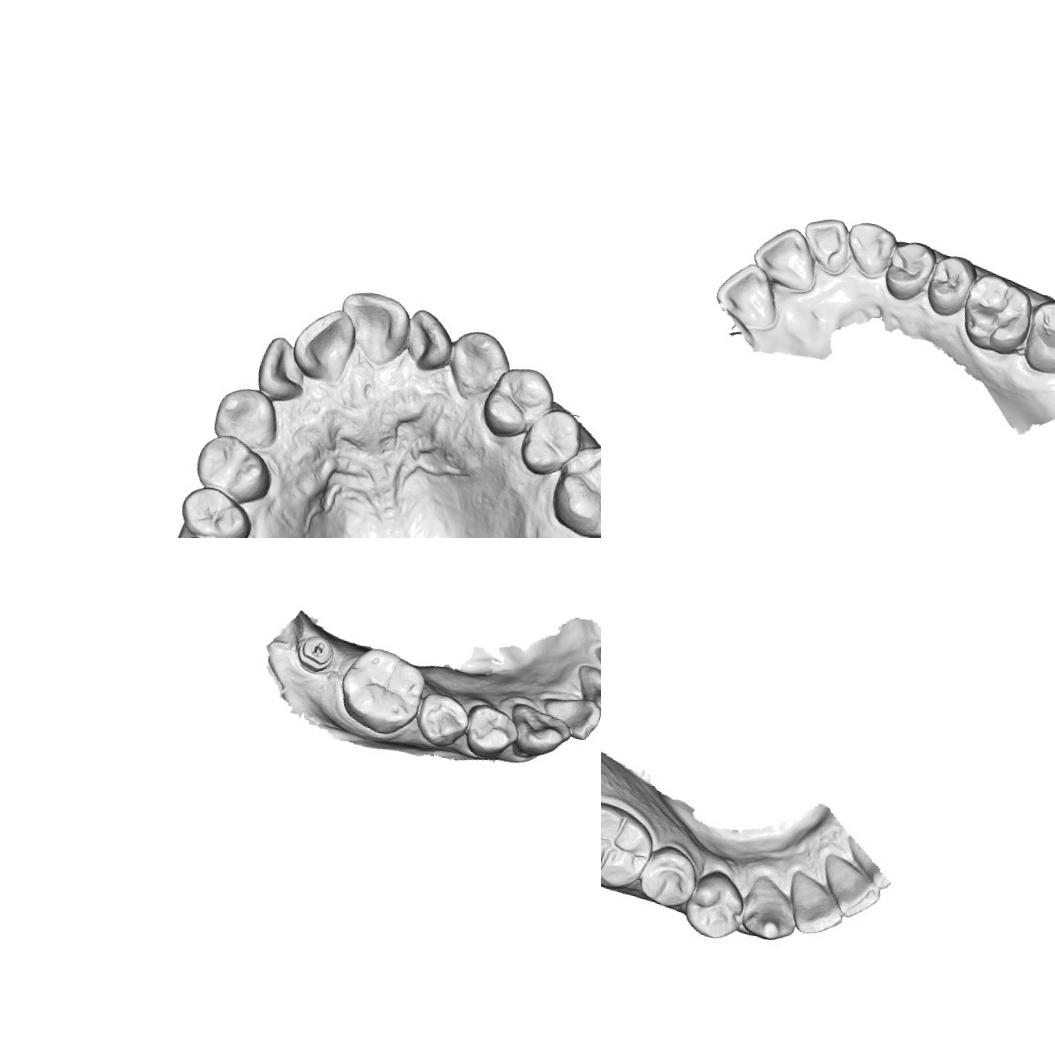canine: (444, 320, 511, 404), (739, 873, 810, 950), (208, 384, 282, 451), (502, 699, 574, 765), (839, 216, 898, 284)
implant_minus: (290, 629, 339, 678)
incisor: (746, 219, 824, 296), (709, 256, 785, 333), (334, 285, 409, 363), (252, 334, 320, 409), (295, 306, 357, 384), (786, 866, 852, 936), (818, 852, 885, 918), (793, 211, 856, 279), (399, 305, 458, 373), (535, 688, 601, 743), (570, 662, 601, 716)
molar: (331, 640, 431, 742), (955, 268, 1038, 358), (601, 793, 656, 891), (549, 439, 601, 538), (1017, 294, 1055, 380)
premolar: (190, 428, 280, 504), (477, 362, 557, 446), (508, 404, 589, 482), (681, 863, 749, 944), (172, 475, 254, 538), (636, 841, 702, 913), (878, 235, 938, 306), (410, 688, 473, 753), (462, 698, 524, 764), (922, 250, 979, 321)
